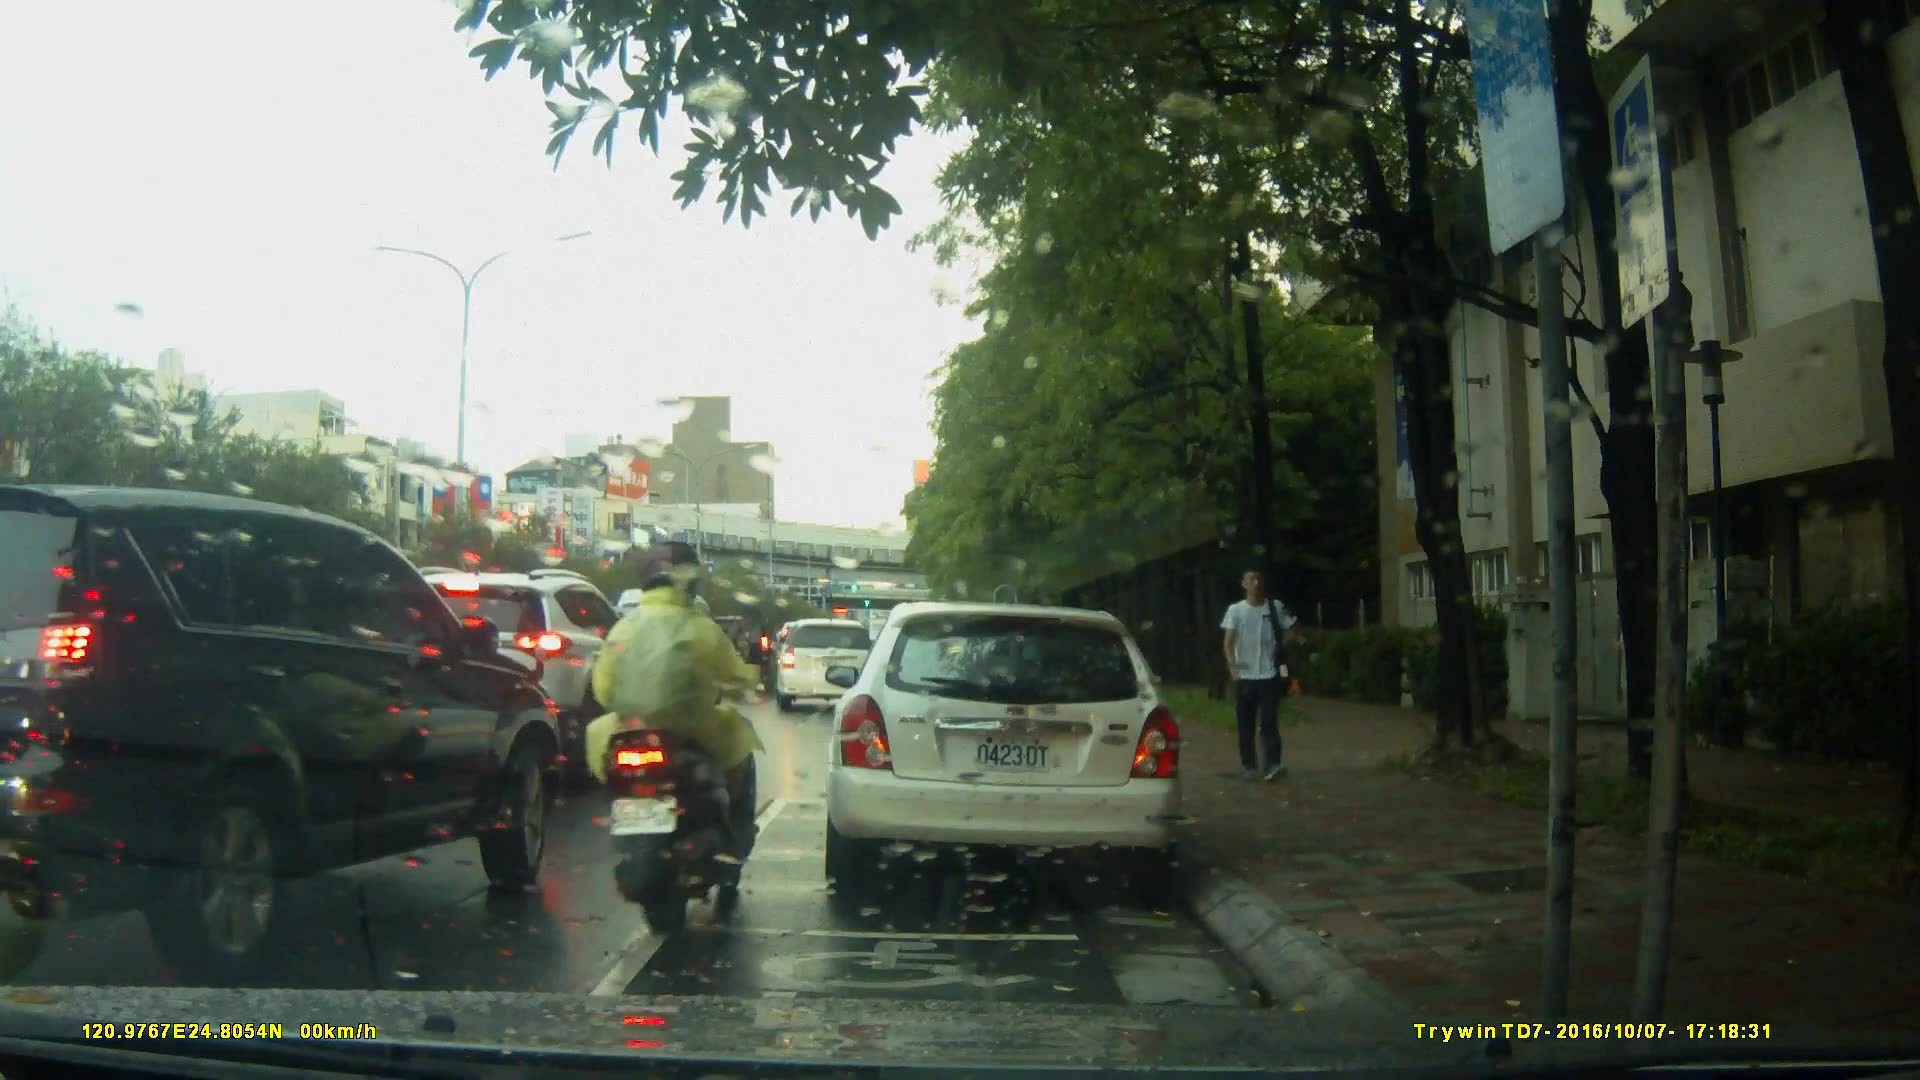pedestrian: (1216, 561, 1308, 799)
rider: (585, 542, 767, 926)
vehicle: (1, 476, 557, 980), (820, 602, 1188, 898), (354, 565, 665, 786), (607, 587, 728, 719), (771, 618, 883, 712)
